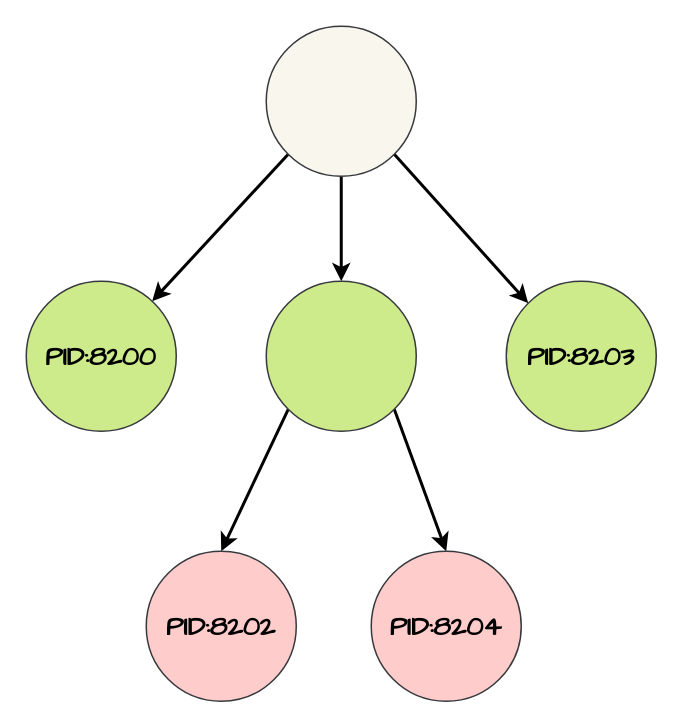
This 683x728 diagram has some shape labels left out. Here are the shapes that lost their labels. From the top down, the box of each, then its label:
(265, 25, 416, 176): Root: 8199
(265, 280, 416, 431): PID:8201
